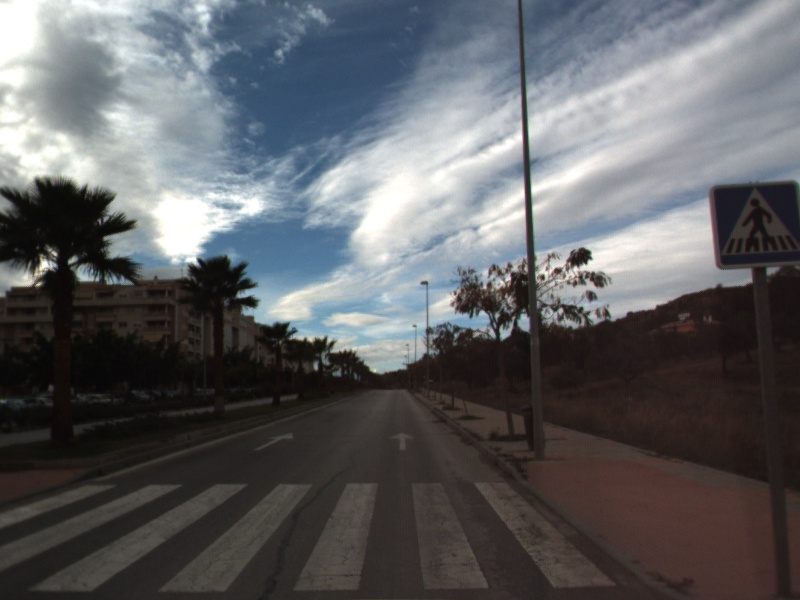STRAIGHT: (252, 430, 295, 452), (388, 430, 416, 452)
